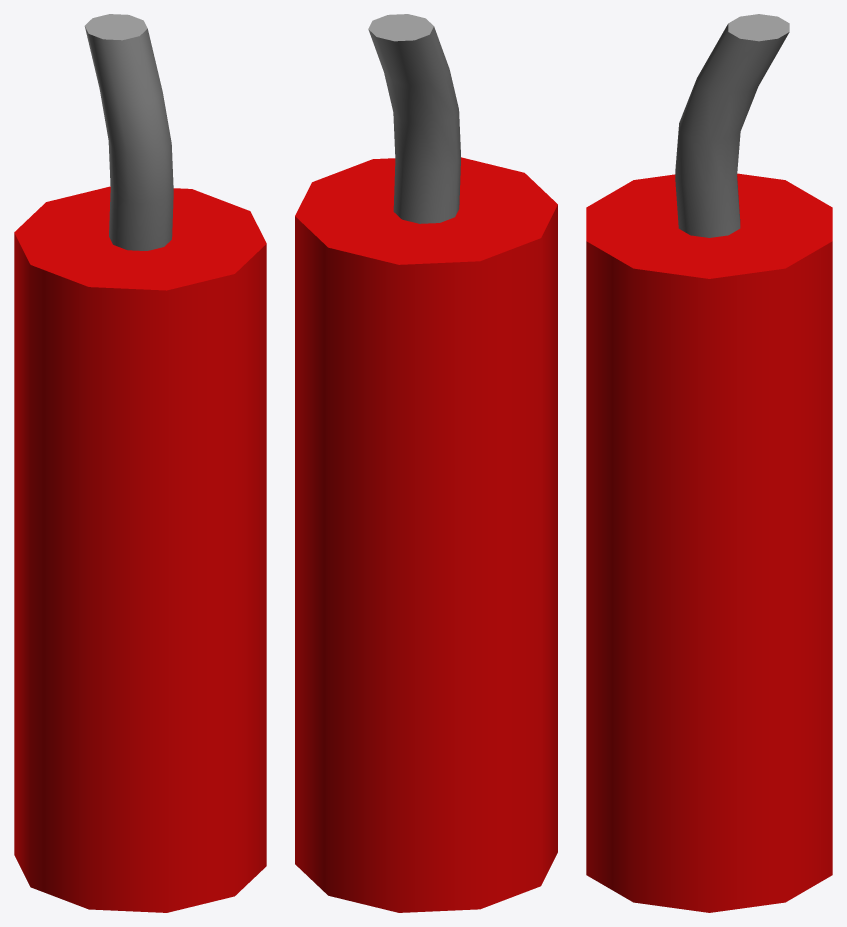
File: fire cracker.fbx
3 renders of one model, left to right at view 1: azimuth 30°, elevation 25°; view 2: azimuth 150°, elevation 25°; view 3: azimuth 270°, elevation 25°, orthographic. The views are drawn at different scales.
Visible parts, largest first — view 1: pCylinder17; view 2: pCylinder17; view 3: pCylinder17.
Boxes of the visible parts, left/top/right/bottom form: pCylinder17: left=14, top=14, right=266, bottom=912; pCylinder17: left=295, top=14, right=557, bottom=912; pCylinder17: left=586, top=14, right=832, bottom=912.
Size of the model in its own units: 1.16 by 4.1 by 1.1.
